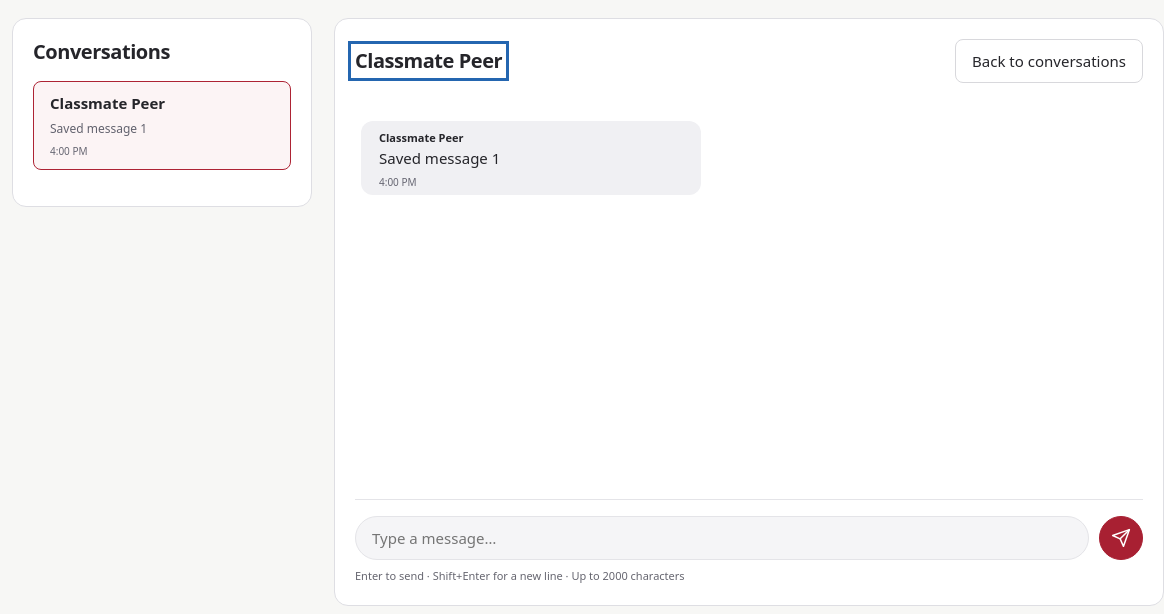
Test: a permission denial refreshes contact state while preserving the failed attempt
Type "Retain failed draft" into the text box labelled "message".
click(722, 538); type("Retain failed draft")  # box [355, 516, 1089, 560]
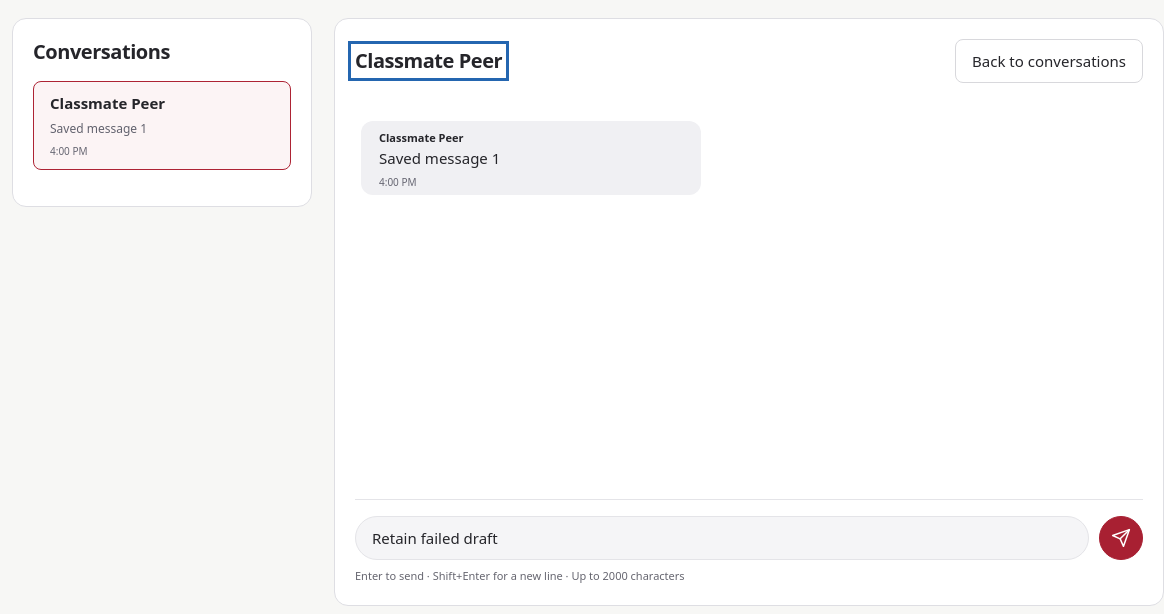
Click the button named "Send".
click(1121, 538)  # box [1099, 516, 1143, 560]
(page scrolled)
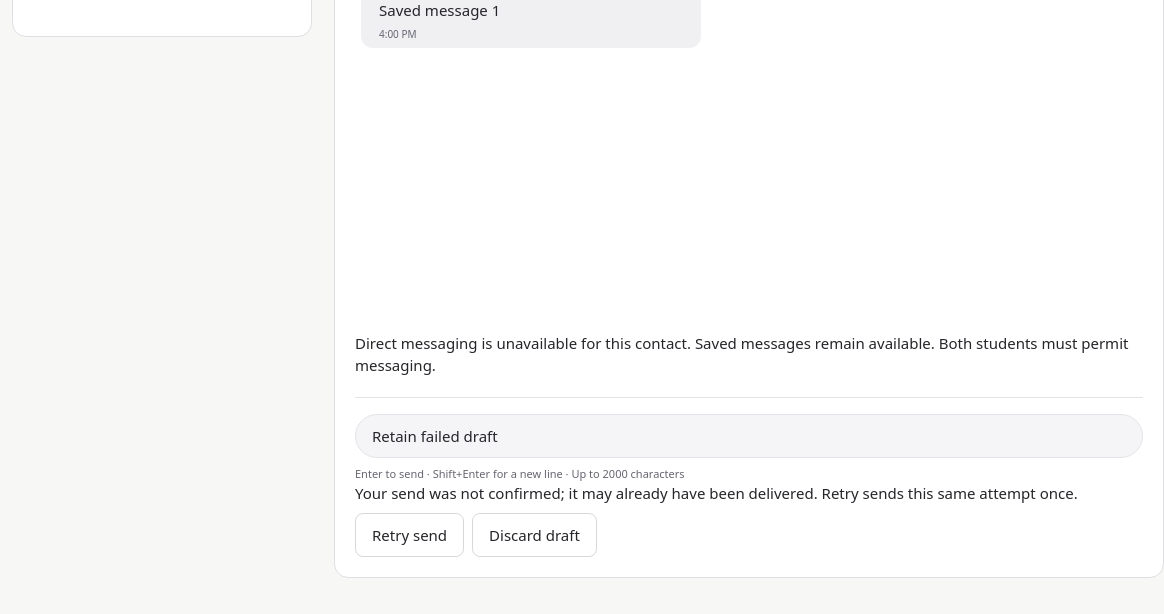
Expected: the text box named "message" is disabled, [355, 414, 1143, 458]
Expected: the button "Retry send" is disabled, [355, 513, 464, 557]
